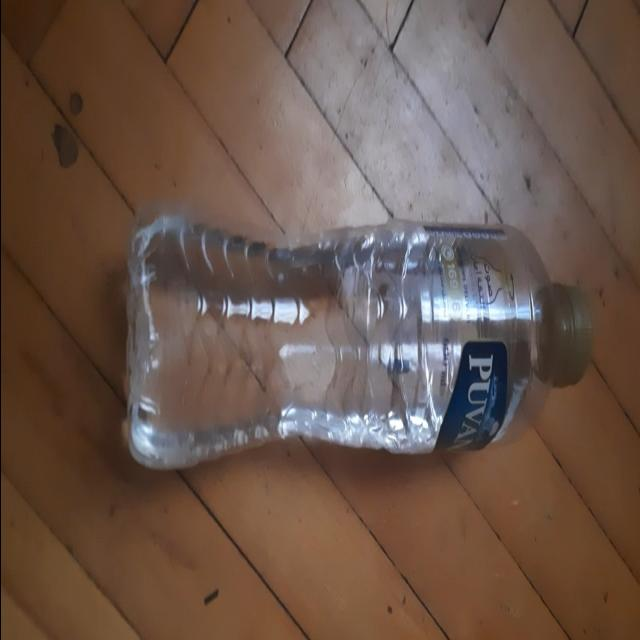Plastic: (120, 212, 594, 472)
